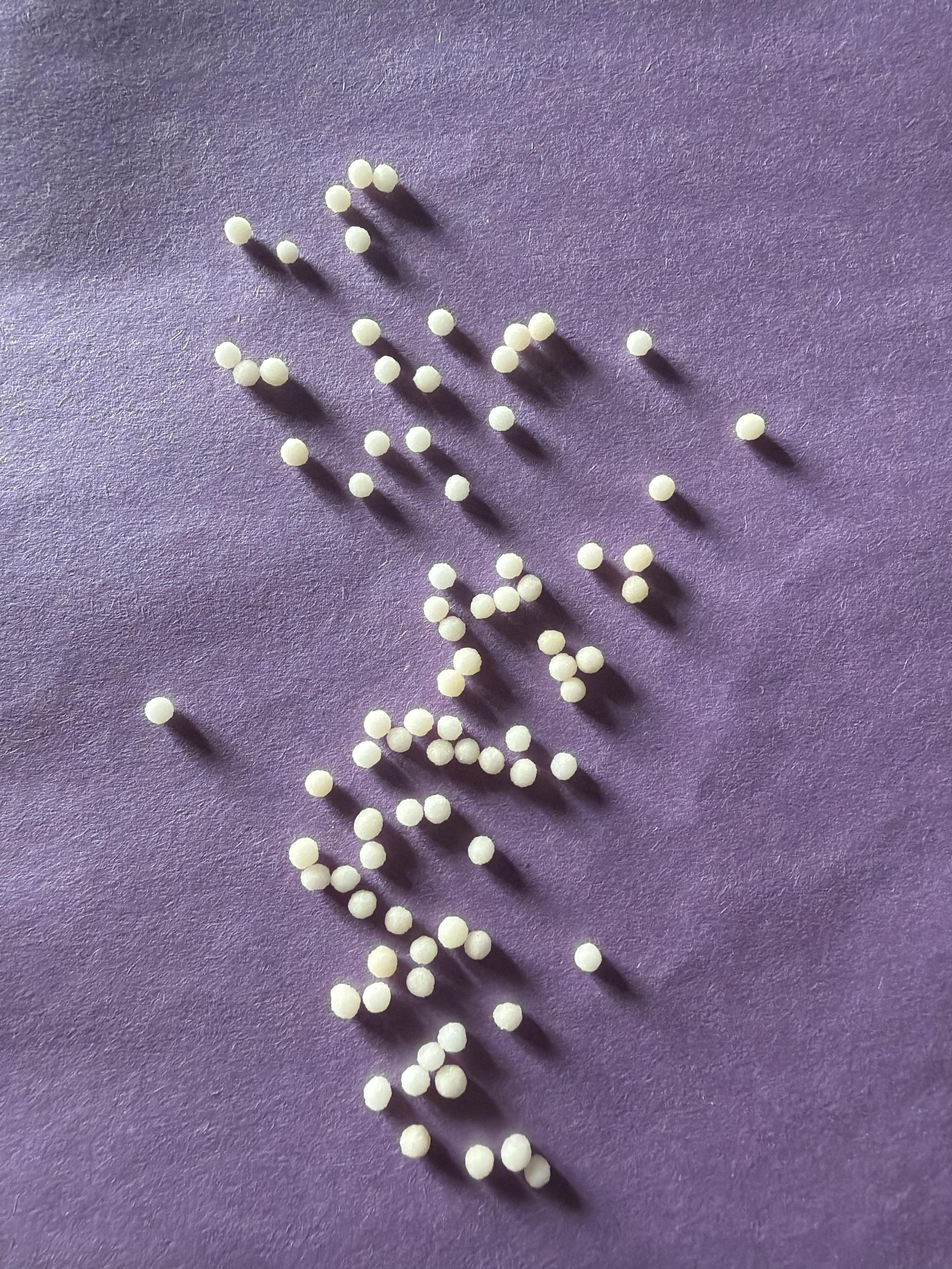pill: (500, 1133, 531, 1172), (434, 1064, 467, 1099), (464, 1144, 494, 1180), (437, 916, 469, 949), (366, 945, 398, 978), (331, 983, 360, 1019), (363, 1076, 392, 1112), (400, 1125, 431, 1158), (288, 837, 319, 869), (401, 1063, 430, 1097), (524, 1154, 551, 1189), (403, 707, 434, 737), (492, 1001, 523, 1031), (437, 1022, 467, 1053), (362, 981, 391, 1013), (354, 808, 383, 840), (259, 356, 289, 386), (299, 863, 330, 892), (406, 967, 435, 998), (548, 652, 577, 682), (348, 889, 377, 919), (463, 930, 492, 960), (417, 1041, 445, 1072), (574, 942, 602, 973), (575, 645, 604, 674), (223, 216, 252, 245), (436, 669, 465, 698), (352, 740, 381, 769), (280, 438, 309, 467), (394, 798, 423, 827), (453, 647, 482, 676), (623, 544, 653, 572), (363, 709, 391, 739), (144, 697, 174, 725), (423, 794, 451, 824), (384, 906, 413, 934), (527, 312, 555, 341), (503, 323, 531, 352), (409, 936, 437, 965), (304, 769, 333, 797), (492, 585, 521, 613), (351, 318, 380, 346), (232, 358, 260, 387), (735, 413, 765, 440), (468, 835, 495, 865), (622, 574, 649, 604), (347, 158, 373, 189), (427, 309, 455, 337), (490, 345, 518, 373), (413, 365, 441, 393), (576, 542, 604, 570), (510, 758, 537, 787), (359, 841, 386, 870), (373, 355, 400, 384), (550, 752, 577, 781), (331, 866, 360, 893), (325, 184, 351, 214), (372, 165, 399, 193), (405, 425, 432, 453), (428, 562, 456, 589), (214, 341, 241, 369), (516, 574, 543, 602), (427, 738, 454, 766), (496, 552, 523, 580), (478, 747, 505, 775), (344, 226, 371, 253), (626, 330, 653, 357), (648, 474, 675, 501), (505, 725, 531, 753), (454, 737, 480, 765), (487, 405, 515, 431), (537, 630, 565, 656), (444, 474, 470, 502), (348, 472, 374, 499), (423, 596, 449, 623), (364, 430, 390, 457), (437, 715, 463, 741), (386, 727, 412, 753), (560, 677, 586, 703), (439, 615, 465, 641), (470, 593, 496, 619), (275, 239, 300, 265)
